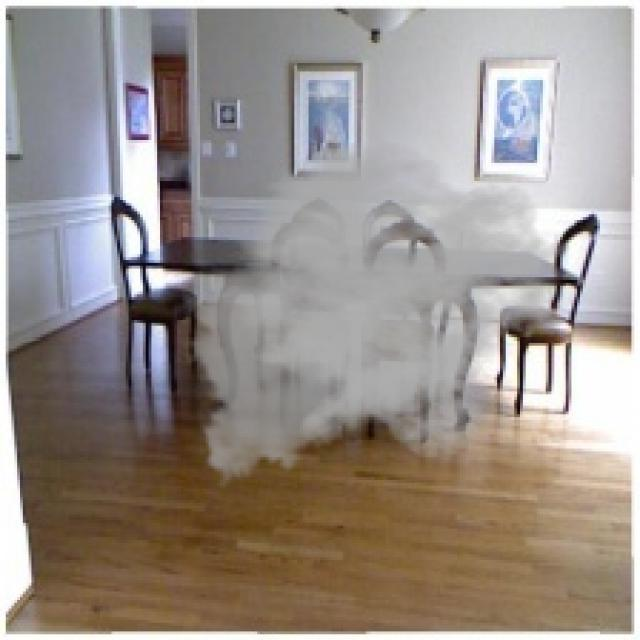Smoke: (179, 140, 572, 494)
